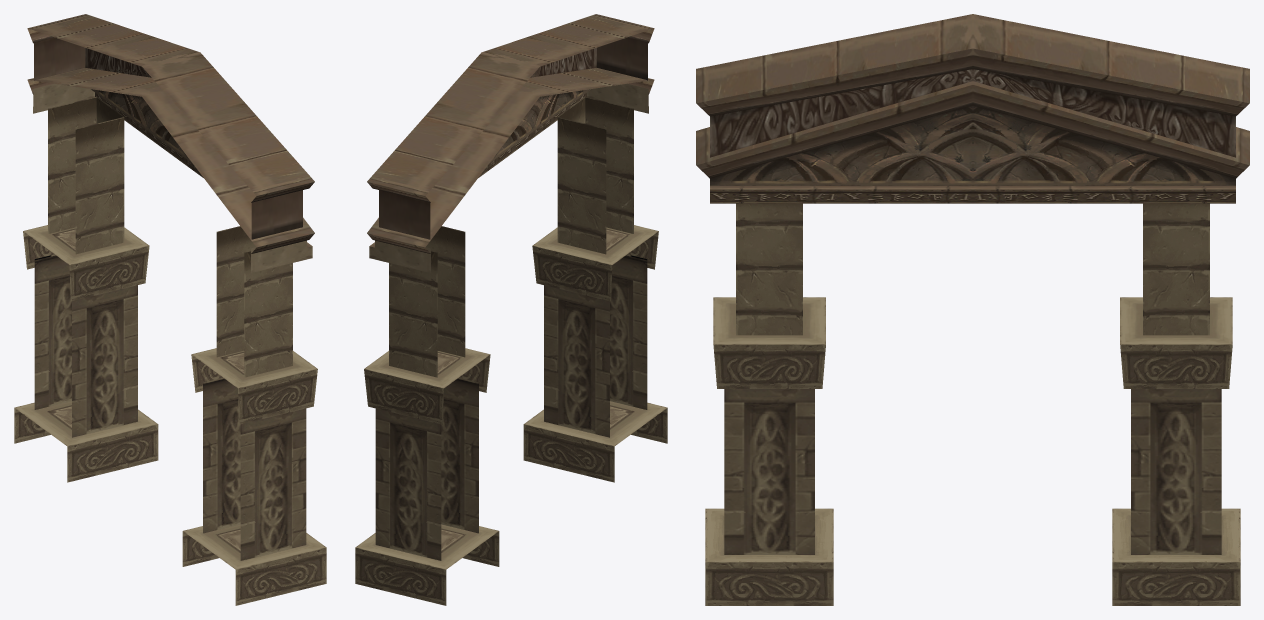
The model's file is bfcs_men.FBX.
3 views of the same model, side by side, from view 1: azimuth 30°, elevation 25°; view 2: azimuth 150°, elevation 25°; view 3: azimuth 270°, elevation 25° (orthographic). The views are drawn at different scales.
Parts seen in each view (by area): view 1: bfcs_men; view 2: bfcs_men; view 3: bfcs_men.
Part boxes in pixels (bbox=[...]): bfcs_men: bbox=[14, 14, 326, 605]; bfcs_men: bbox=[355, 14, 667, 605]; bfcs_men: bbox=[696, 14, 1249, 605].
Size of the model in its own units: 39.63 by 189 by 173.
